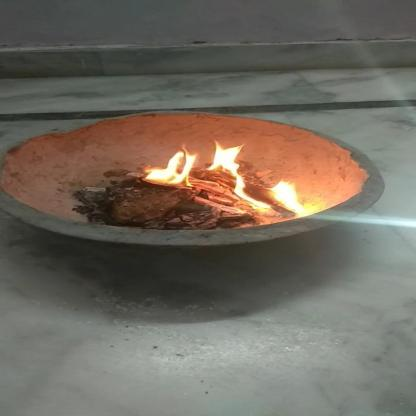fire: (136, 142, 256, 192), (229, 180, 311, 216)
